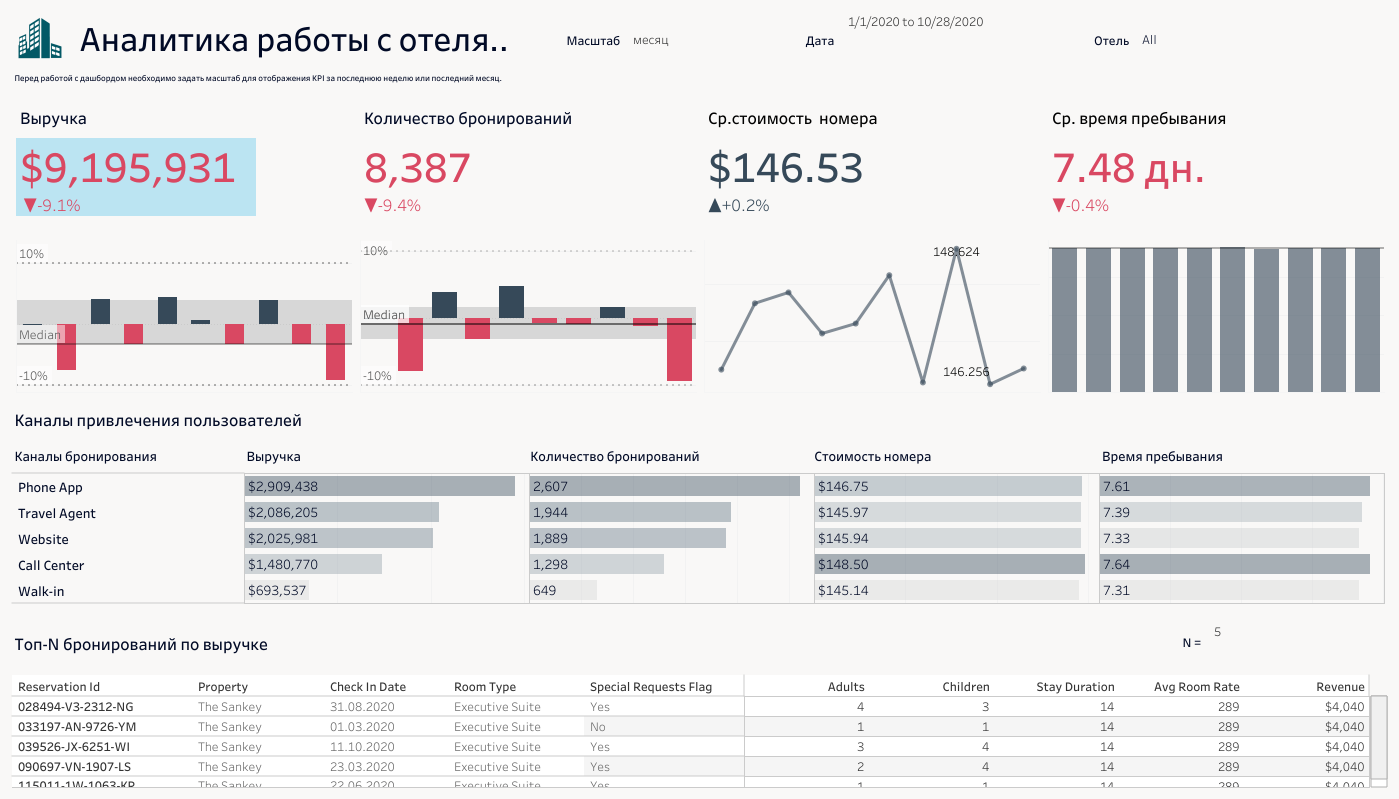

What the dashboard file says about the page in this screenshot:
{"tool":"tableau","page":{"name":"Дашборд отели","canvas":[1400,800],"ordinal":0},"visuals":[{"type":"image","param":"Image/png-clipart-logo-brand-building-angle-building-thumbnail.png","box":[8,8,64.9,60]},{"type":"text","box":[72.9,8,464.3,60]},{"type":"text","box":[537.2,8,90,60]},{"type":"parameter","param":"[Parameters].[Parameter 1]","box":[627.2,8,129,60]},{"type":"text","box":[756.2,8,85,60]},{"type":"filter","title":"SL Stay Duration ","param":"[federated.05r2enf0a73gba1850olj0ibmbxe].[none:Date:qk]","box":[841.2,8,225.7,60]},{"type":"text","box":[1066.9,8,69,60]},{"type":"filter","title":"Каналы бронирования","param":"[federated.05r2enf0a73gba1850olj0ibmbxe].[none:Property:nk]","box":[1135.9,8,256.1,60]},{"type":"text","box":[8,68,1384,20]},{"type":"worksheet","title":"Выручка","mark":"Automatic","box":[12,96,344,140]},{"type":"worksheet","title":"Количество бронирований","mark":"Automatic","box":[356,96,344,140]},{"type":"worksheet","title":"KPI roomrate","mark":"Automatic","box":[700,96,344,140]},{"type":"worksheet","title":"KPI Stay Duration","mark":"Automatic","box":[1044,96,344,140]},{"type":"worksheet","title":"Выручка динамика","mark":"Bar","rows":["Calculation_992762260192452608"],"cols":["Calculation_992762260266008577"],"box":[12,236,344,160]},{"type":"worksheet","title":"Количество бронирований динамика","mark":"Bar","rows":["reservation_id"],"cols":["Calculation_992762260279246851"],"box":[356,236,344,160]},{"type":"worksheet","title":"SL roomrate","mark":"Automatic","rows":["Avg Room Rate"],"cols":["Calculation_1089871127824490501"],"box":[700,236,344,160]},{"type":"worksheet","title":"SL Stay Duration ","mark":"Bar","rows":["stay_duration"],"cols":["Calculation_1089871127838883847"],"box":[1044,236,344,160]},{"type":"text","box":[8,400,1384,69]},{"type":"worksheet","title":"Каналы бронирования","mark":"Bar","rows":["booking_channel"],"cols":["Calculation_256986671475240970","CD Revenue (copy)_1488158219674603524","CD Stay Duration (copy)_1089871127861809166","CD Revenue (copy)_1089871127839891464"],"box":[8,469,1384,143]},{"type":"text","box":[8,612,822,59]},{"type":"text","box":[830,612,378,59]},{"type":"parameter","param":"[Parameters].[Parameter 2]","box":[1208,612,184,59]},{"type":"worksheet","title":"Top-N","mark":"Automatic","rows":["reservation_id","Property","check_in_date","room_type","special_requests_flag"],"box":[8,671,1384,121]}]}

Visuals, with their boxes in screenshot pixels (x1, y1, x2, y2), scaled from the page's 1400x800 canvas onto the 1399x799 screenshot:
image: [8,8,73,68]
text: [73,8,537,68]
text: [537,8,627,68]
parameter: [627,8,756,68]
text: [756,8,841,68]
"SL Stay Duration " filter: [841,8,1066,68]
text: [1066,8,1135,68]
"Каналы бронирования" filter: [1135,8,1391,68]
text: [8,68,1391,88]
"Выручка" worksheet: [12,96,356,236]
"Количество бронирований" worksheet: [356,96,700,236]
"KPI roomrate" worksheet: [700,96,1043,236]
"KPI Stay Duration" worksheet: [1043,96,1387,236]
"Выручка динамика" worksheet (Bar marks): [12,236,356,396]
"Количество бронирований динамика" worksheet (Bar marks): [356,236,700,396]
"SL roomrate" worksheet: [700,236,1043,396]
"SL Stay Duration " worksheet (Bar marks): [1043,236,1387,396]
text: [8,400,1391,468]
"Каналы бронирования" worksheet (Bar marks): [8,468,1391,611]
text: [8,611,829,670]
text: [829,611,1207,670]
parameter: [1207,611,1391,670]
"Top-N" worksheet: [8,670,1391,791]
